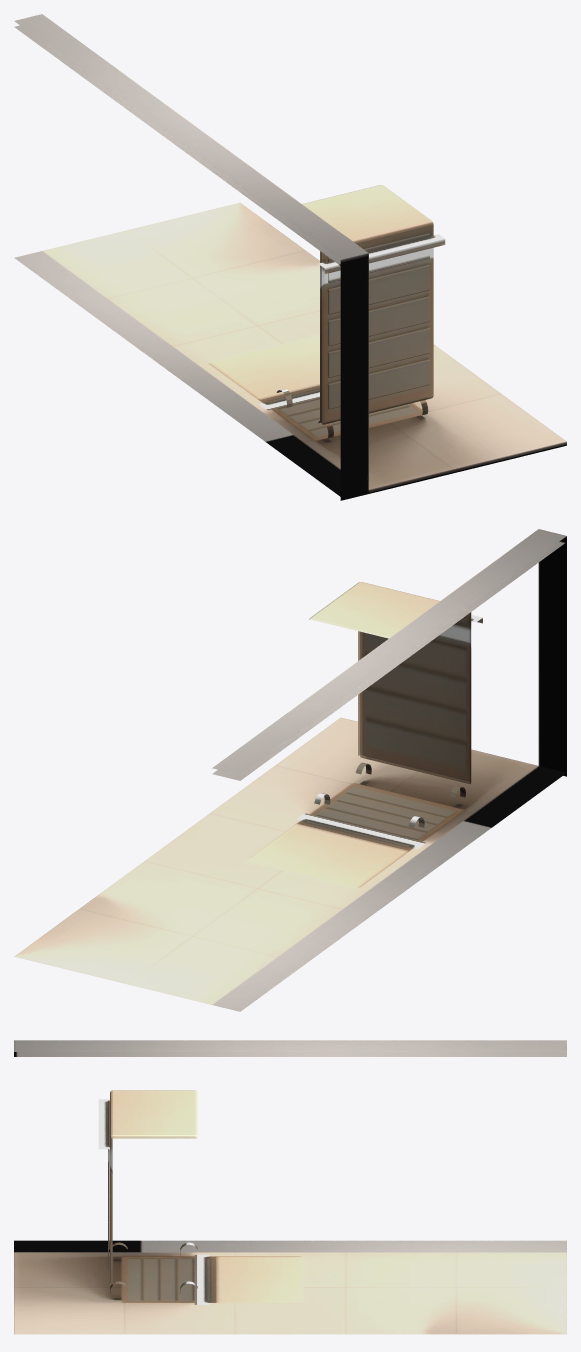
File: side-left-alt.glb
3 views of the same model, one above another, from view 1: azimuth 30°, elevation 25°; view 2: azimuth 150°, elevation 25°; view 3: azimuth 270°, elevation 25° (orthographic). The views are drawn at different scales.
Visible parts, largest first — view 1: sideLeftAlt; view 2: sideLeftAlt; view 3: sideLeftAlt.
Part boxes in pixels (x1,y1,x2,y2): sideLeftAlt: (14,14,566,500); sideLeftAlt: (14,529,566,1011); sideLeftAlt: (14,1040,566,1334).
Bounding box in the file's own units: 1.2 × 1.22 × 3.
Materials: 1 (1 with a texture image).
